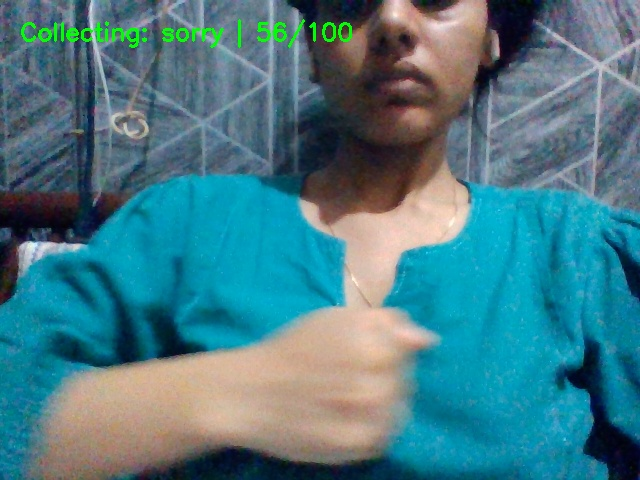sorry: (215, 300, 442, 449)
